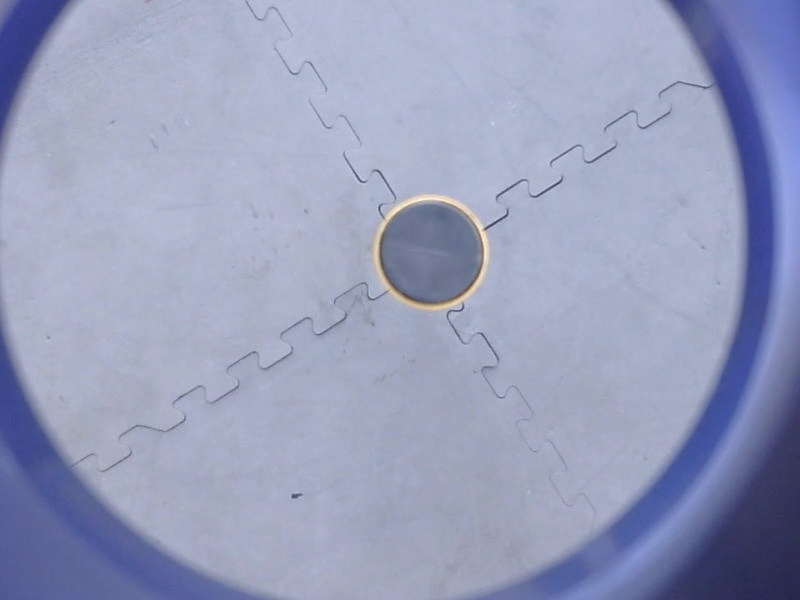tip: (369, 189, 494, 316)
